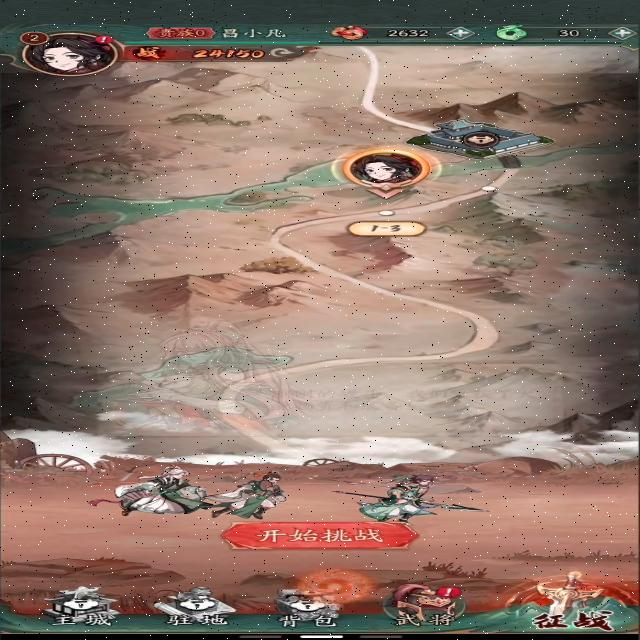hint-reddot: (431, 584, 464, 602), (86, 33, 124, 45)
navigation-fight: (500, 573, 630, 633)
navigation-hero: (377, 581, 473, 628)
navigation-role: (11, 26, 134, 78)
navigation-station-off: (147, 583, 239, 629)
operation-confirm: (221, 520, 420, 552)
